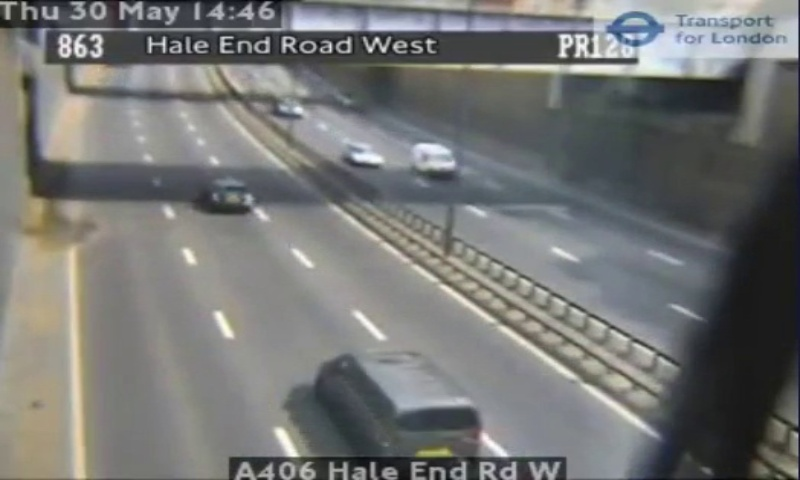car: (206, 178, 254, 209)
van: (320, 351, 482, 455)
